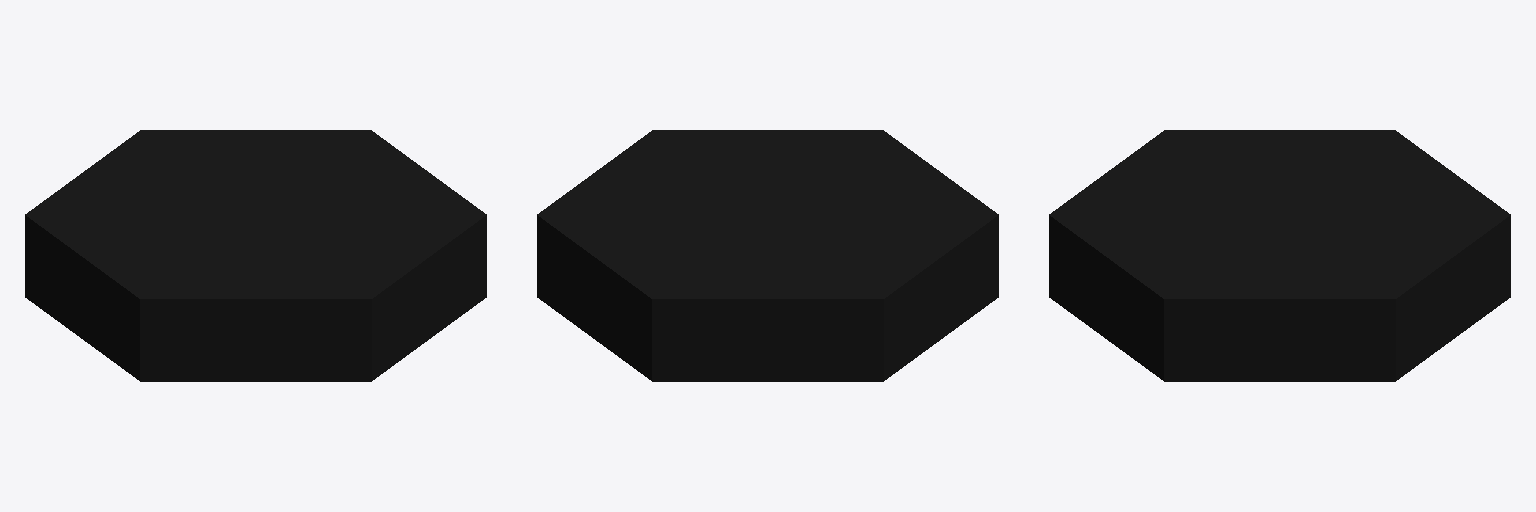
File: level0.obj
3 renders of one model, left to right at view 1: azimuth 30°, elevation 25°; view 2: azimuth 150°, elevation 25°; view 3: azimuth 270°, elevation 25°, orthographic.
Parts seen in each view (by area): view 1: Cylinder.003; view 2: Cylinder.003; view 3: Cylinder.003.
Part boxes in pixels (x1,y1,x2,y2): Cylinder.003: (25,130,486,381); Cylinder.003: (537,130,998,381); Cylinder.003: (1049,130,1510,381).
Size of the model in its own units: 1.73 by 0.393 by 2.